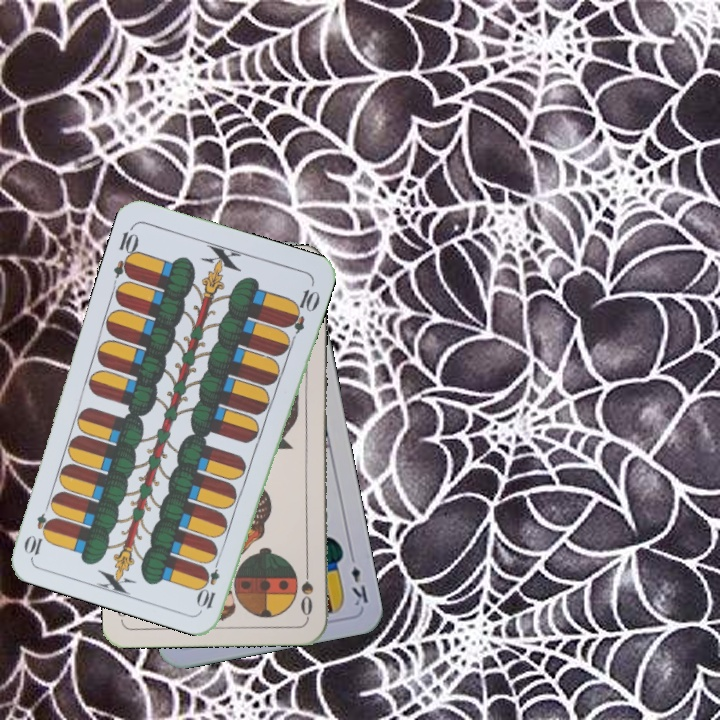E10: (109, 222, 142, 281), (195, 553, 223, 611)
EK: (345, 549, 371, 609)
SO: (297, 560, 316, 619)
